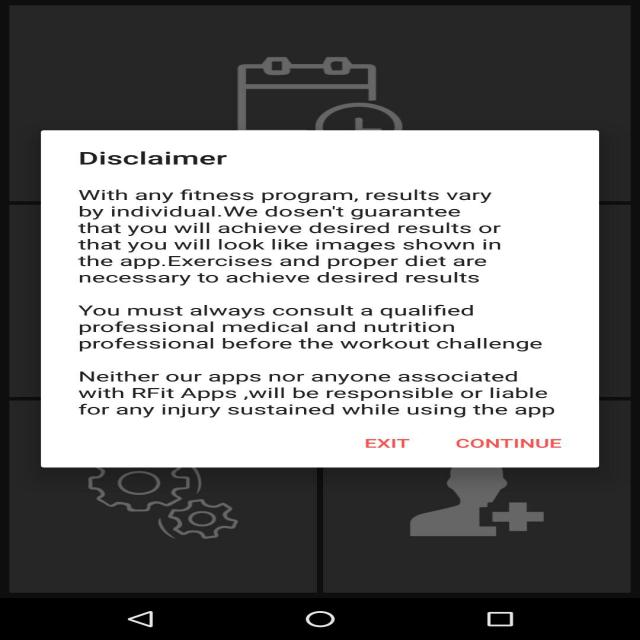button: (346, 435, 582, 458)
text: (39, 134, 596, 463)
